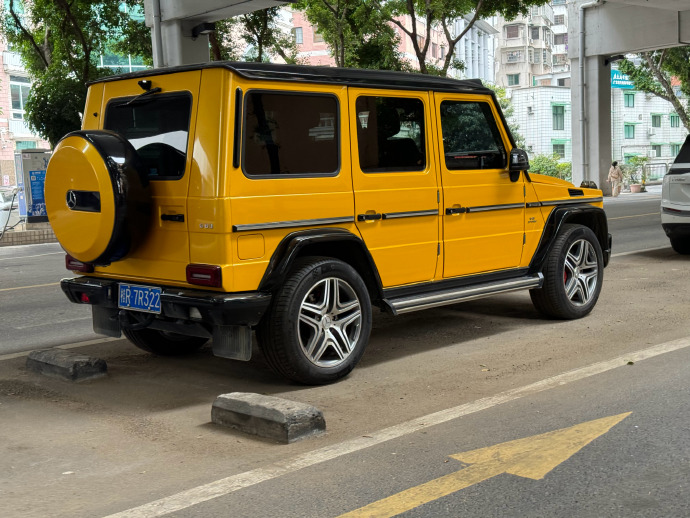other: (49, 69, 605, 379)
